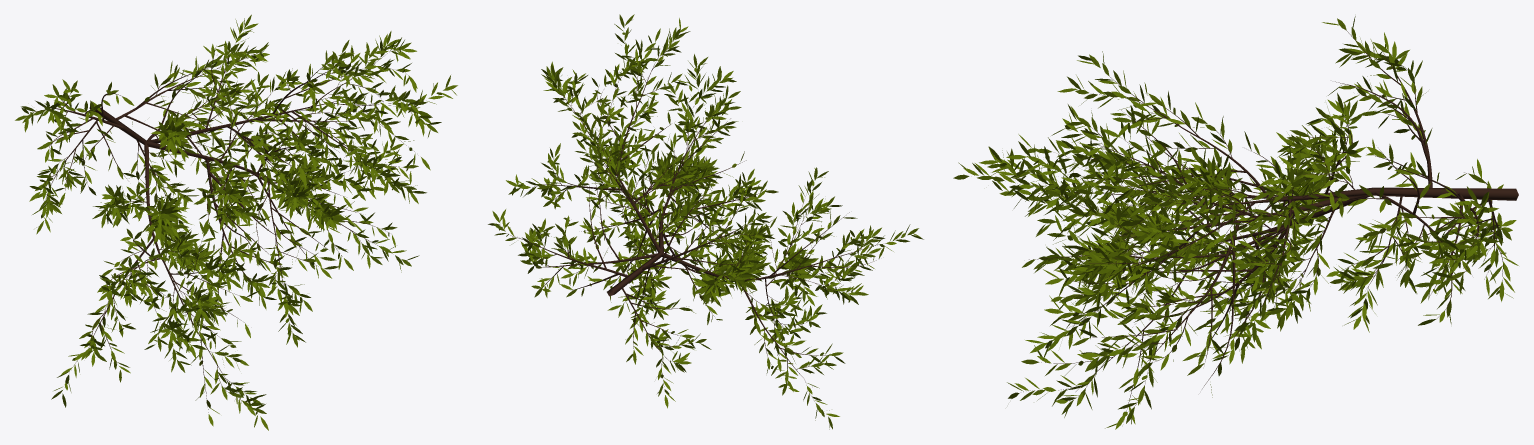
File: bush2.obj
The picture shows the model from 3 angles, left to right: view 1: azimuth 30°, elevation 25°; view 2: azimuth 150°, elevation 25°; view 3: azimuth 270°, elevation 25°; orthographic projection. The views are drawn at different scales.
Visible parts, largest first — view 1: bush_leaves, bush.001_leaves.001; view 2: bush_leaves, bush.001_leaves.001; view 3: bush_leaves, bush.001_leaves.001.
Part boxes in pixels (x1=…): bush_leaves: x1=15, y1=14, x2=457, y2=430; bush.001_leaves.001: x1=28, y1=39, x2=414, y2=412; bush_leaves: x1=488, y1=14, x2=923, y2=429; bush.001_leaves.001: x1=510, y1=40, x2=885, y2=401; bush_leaves: x1=953, y1=16, x2=1518, y2=429; bush.001_leaves.001: x1=1024, y1=25, x2=1518, y2=411.
Size of the model in its own units: 3.21 by 2.94 by 3.3.
